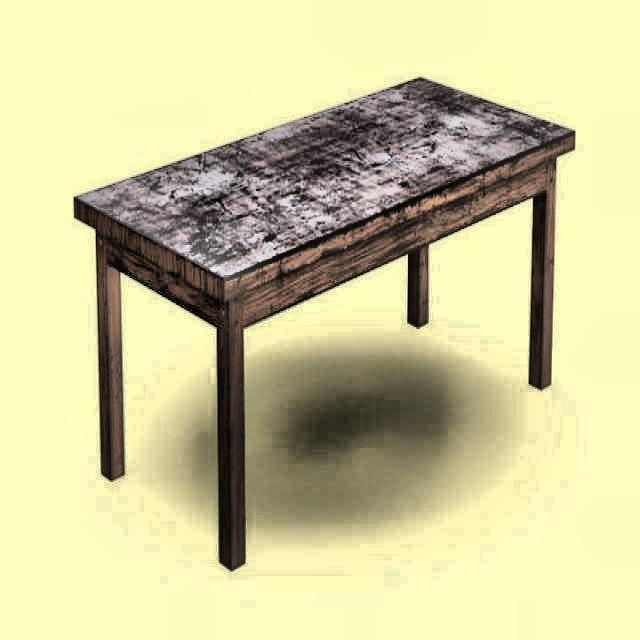mesa: (74, 74, 576, 570)
